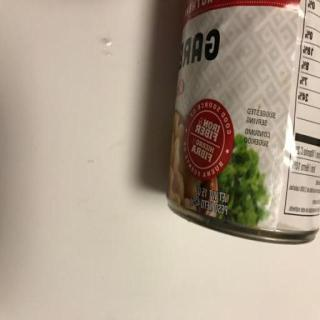Anorganik: (169, 2, 320, 244)
